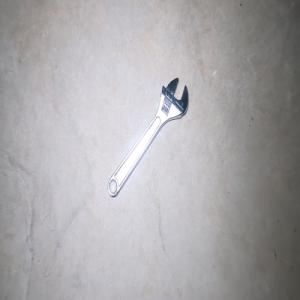Wrench: (107, 77, 188, 197)
